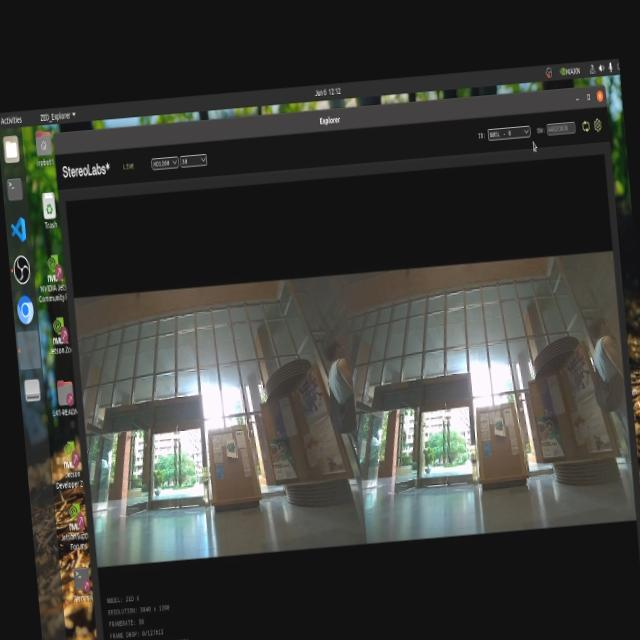green: (223, 435, 236, 457), (495, 416, 504, 436)
